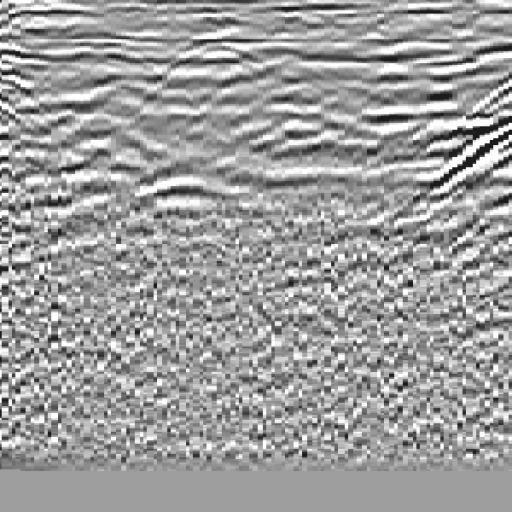metalic: (98, 39, 265, 256)
nonmetalic: (400, 58, 512, 273)
